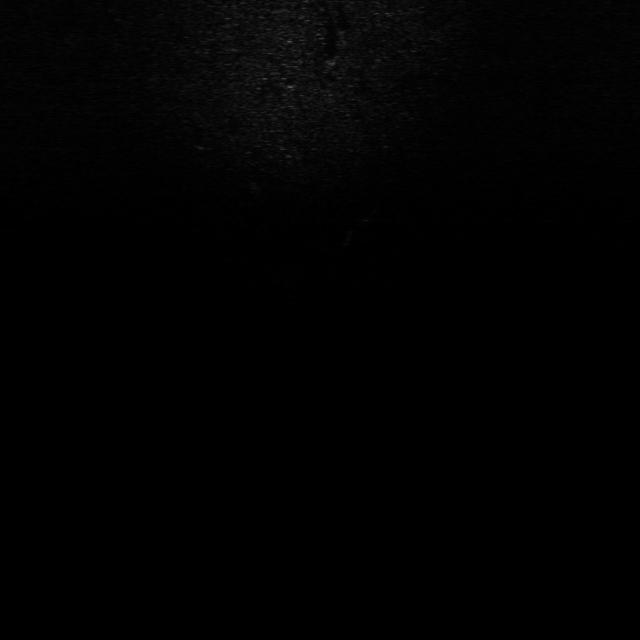human body: (342, 206, 382, 255)
